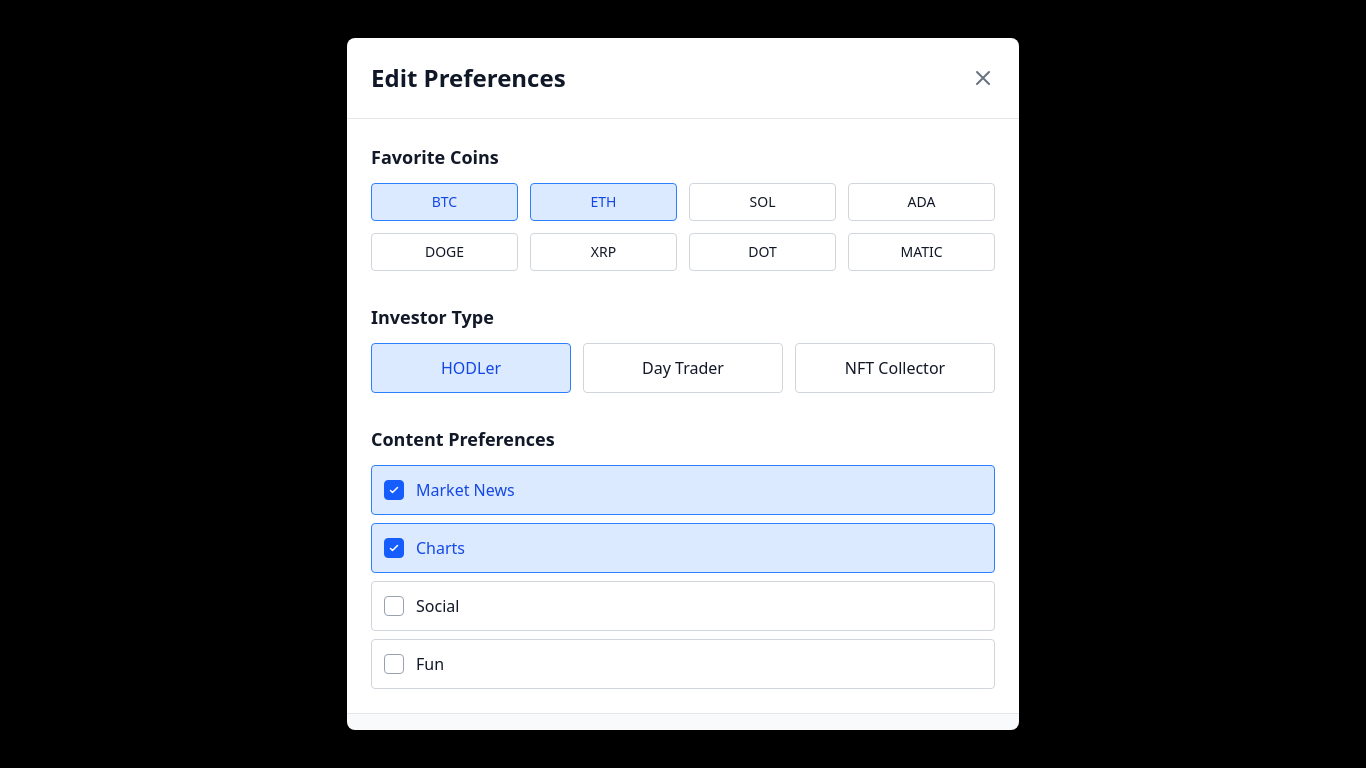
Test: EditPreferencesModal › should disable save button if validation fails
The width and height of the screenshot is (1366, 768).
# Deselect all coins
Step 1. Click the button "BTC" → (444, 202), box [371,183,518,221]
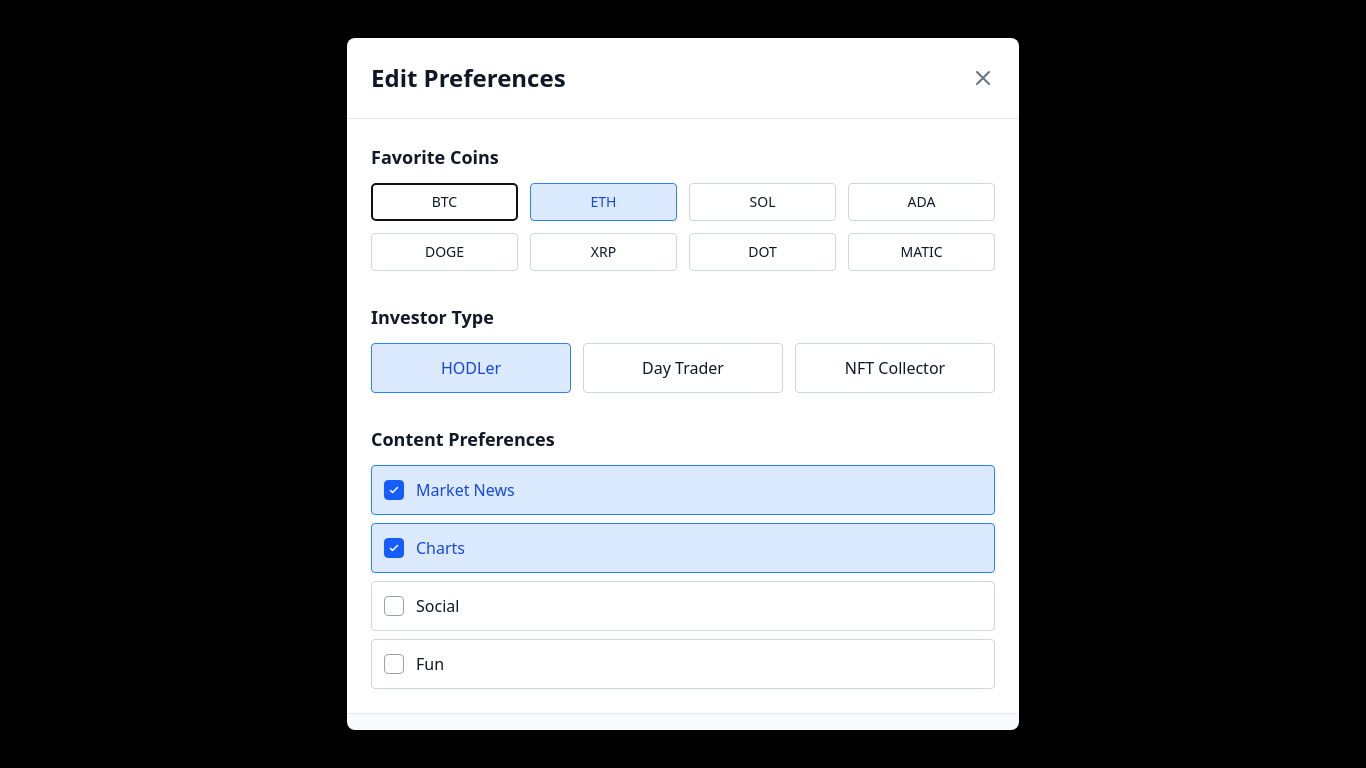
Step 2. Click the button "ETH" → (604, 202), box [530,183,677,221]
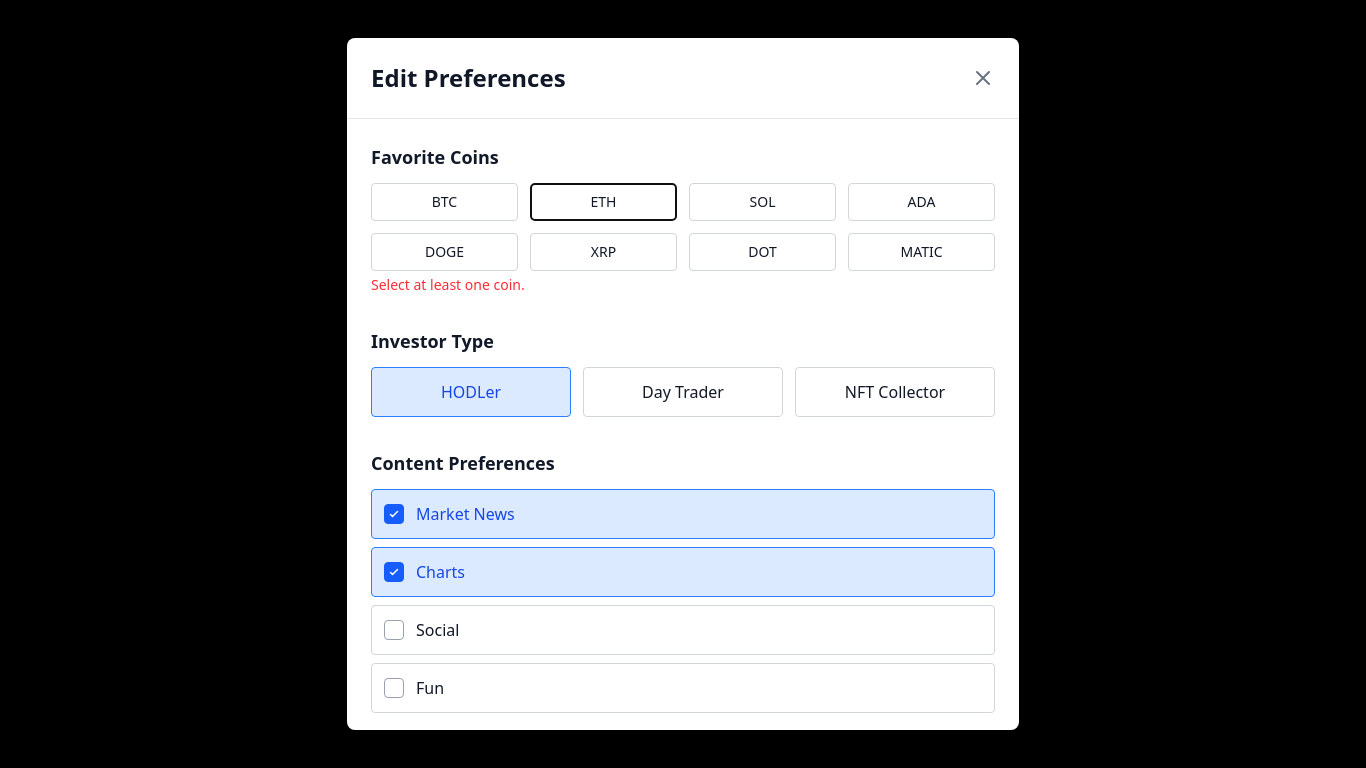
Check: the text "Select at least one coin." is shown, box [371,275,525,294]
# Re-select a coin to fix it
Step 3. Click the button "BTC" → (444, 202), box [371,183,518,221]
(page scrolled)
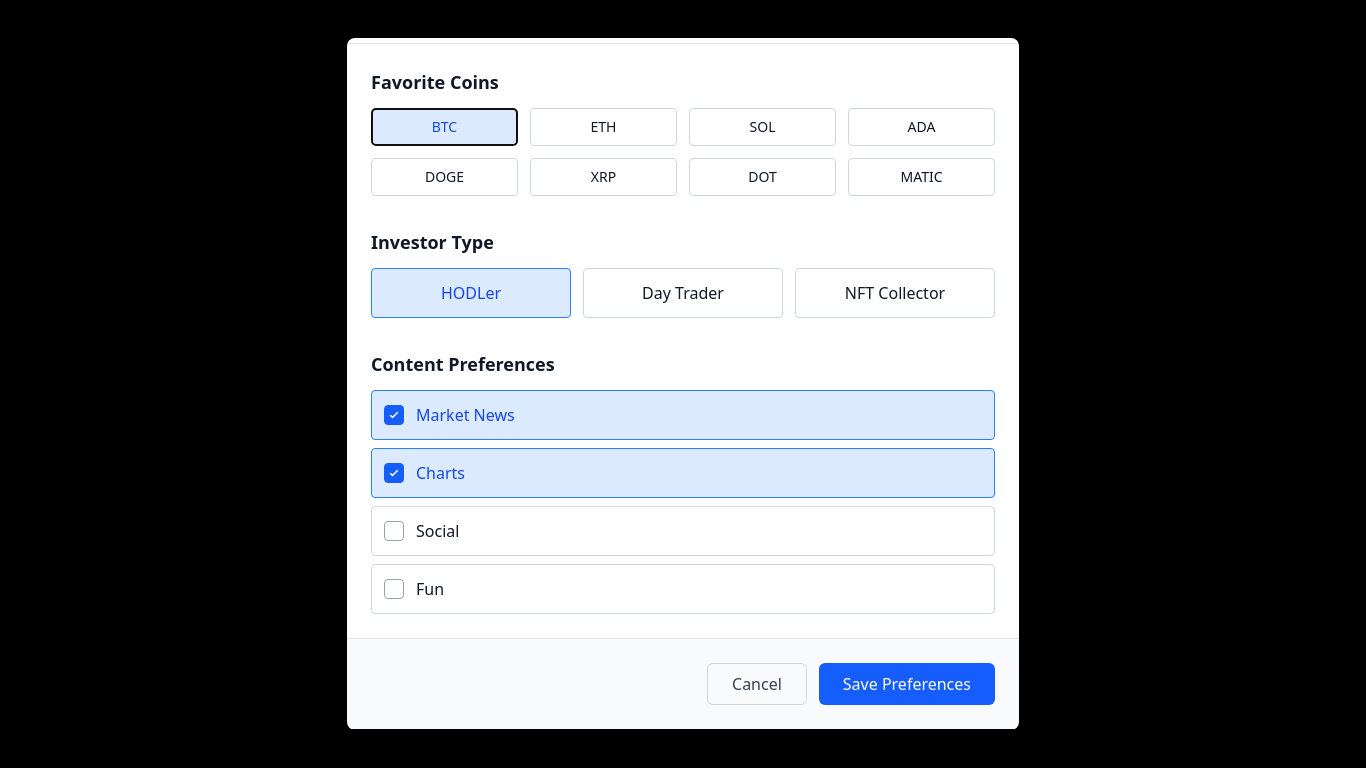
Check: the text "Select at least one coin." is gone
Check: the button "Save Preferences" is enabled, box [819,663,995,705]
